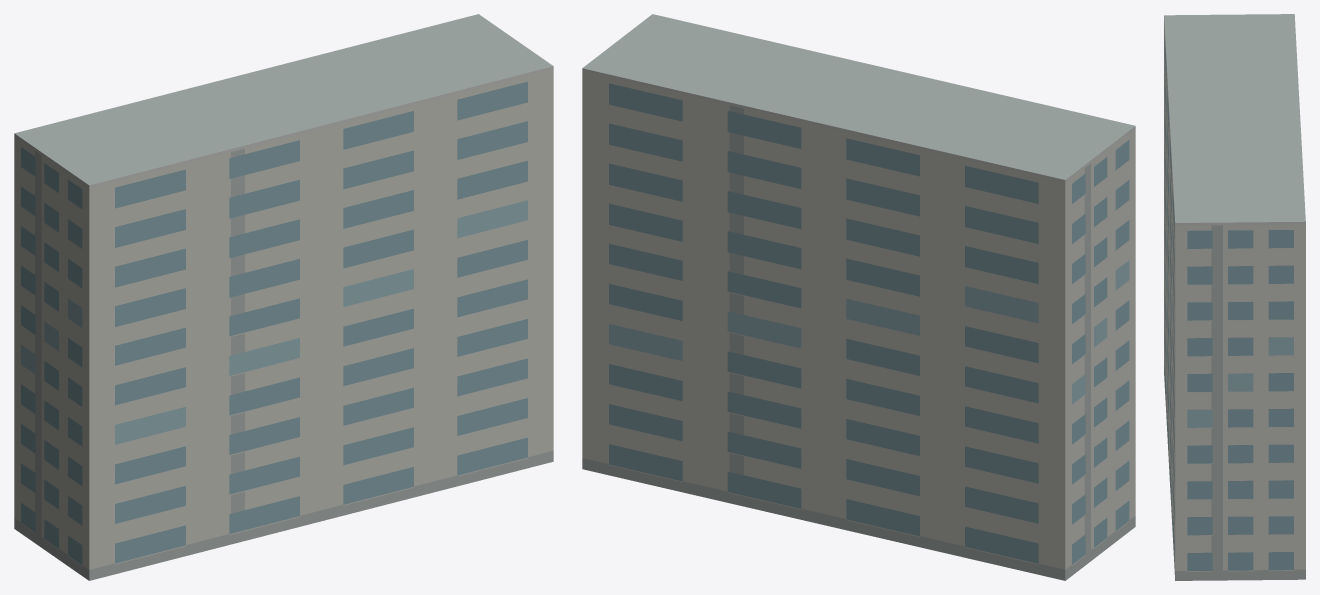
File: residential-b66271e3-42c8-40b9-9330-b736a5da42b4.glb
3 renders of one model, left to right at view 1: azimuth 30°, elevation 25°; view 2: azimuth 150°, elevation 25°; view 3: azimuth 270°, elevation 25°, orthographic. The views are drawn at different scales.
Parts seen in each view (by area): view 1: residential-b66271e3-42c8-40b9-9330-b736a5da42b4.tmp; view 2: residential-b66271e3-42c8-40b9-9330-b736a5da42b4.tmp; view 3: residential-b66271e3-42c8-40b9-9330-b736a5da42b4.tmp.
Boxes of the visible parts, x1,y1,x2,y2 form: residential-b66271e3-42c8-40b9-9330-b736a5da42b4.tmp: [14, 14, 553, 580]; residential-b66271e3-42c8-40b9-9330-b736a5da42b4.tmp: [582, 14, 1135, 580]; residential-b66271e3-42c8-40b9-9330-b736a5da42b4.tmp: [1164, 14, 1305, 580].
Size of the model in its own units: 40.09 by 32 by 11.5.
